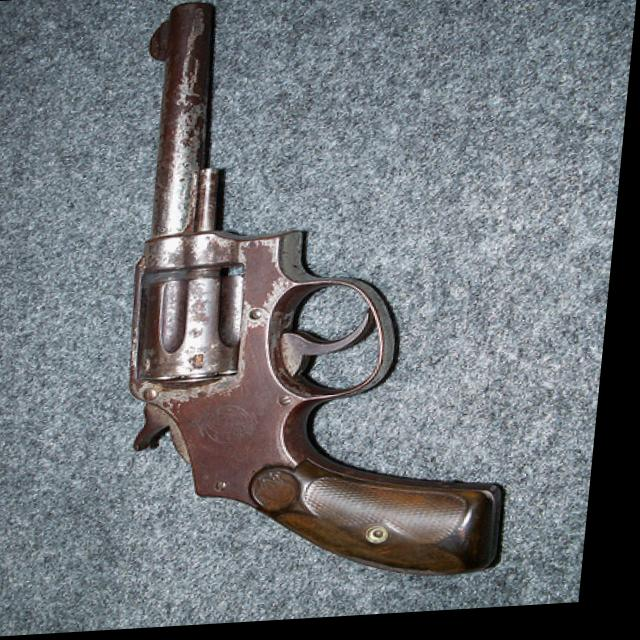handgun: (102, 0, 548, 601)
